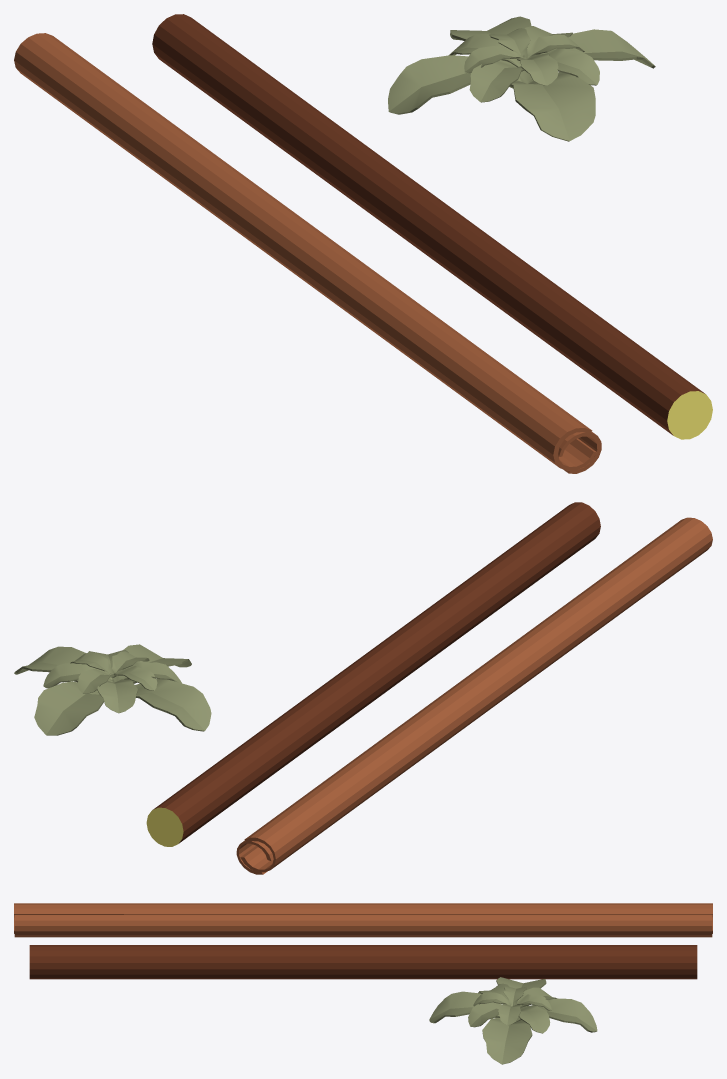
File: Ingredientspart2.fbx
3 renders of one model, top to bottom at view 1: azimuth 30°, elevation 25°; view 2: azimuth 150°, elevation 25°; view 3: azimuth 270°, elevation 25°, orthographic. The views are drawn at different scales.
Parts seen in each view (by area): view 1: Licorice, Cinnamon, Mint; view 2: Licorice, Cinnamon, Mint; view 3: Cinnamon, Licorice, Mint.
Part boxes in pixels (<box>): Licorice: <box>152,14,712,439</box>; Cinnamon: <box>14,33,601,473</box>; Mint: <box>388,16,655,141</box>; Licorice: <box>146,502,600,846</box>; Cinnamon: <box>236,517,712,874</box>; Mint: <box>14,644,211,735</box>; Cinnamon: <box>14,903,712,937</box>; Licorice: <box>29,945,697,979</box>; Mint: <box>429,977,597,1064</box>.
Bounding box in the file's own units: 2089 × 289 × 4081.
